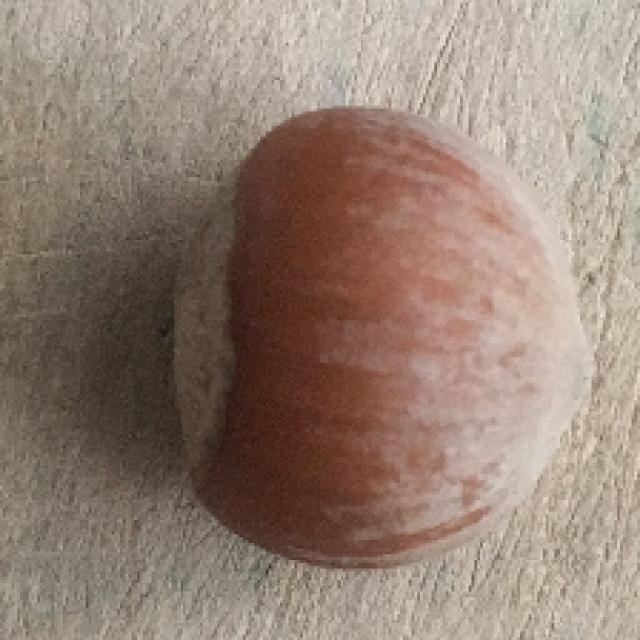qualityHazelnut: (185, 107, 590, 567)
